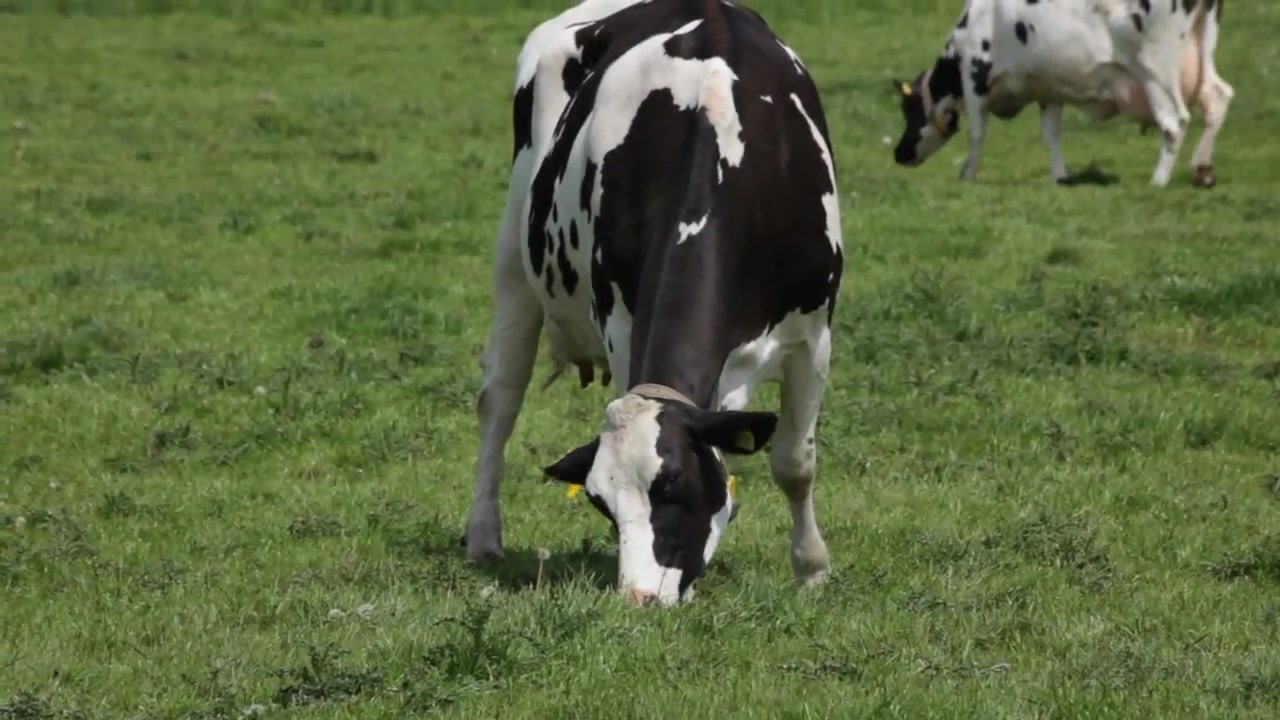cow: (461, 5, 849, 618)
